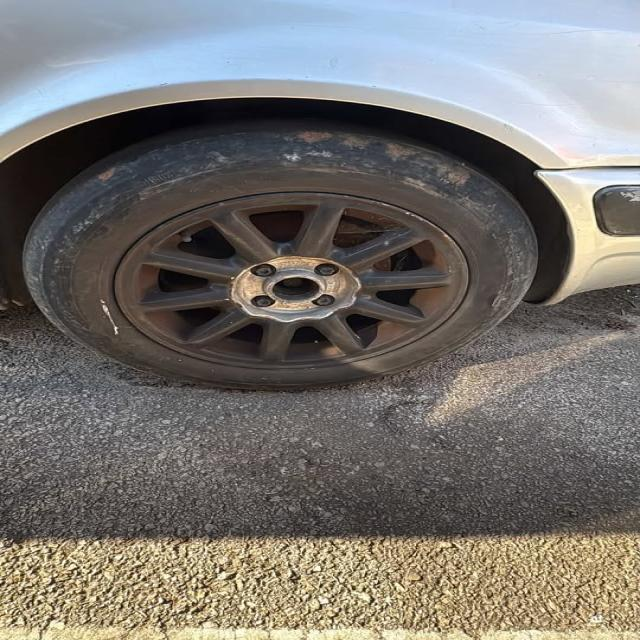jante: (113, 192, 471, 370)
parafuso: (318, 264, 335, 276), (256, 265, 272, 276), (317, 296, 332, 305), (256, 298, 270, 306)
roda: (21, 122, 539, 391)
